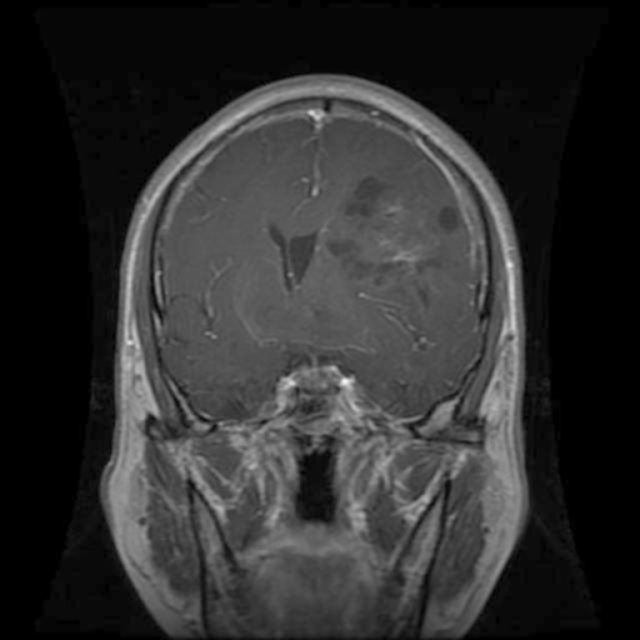pituitary tumor: (345, 204, 440, 275)
